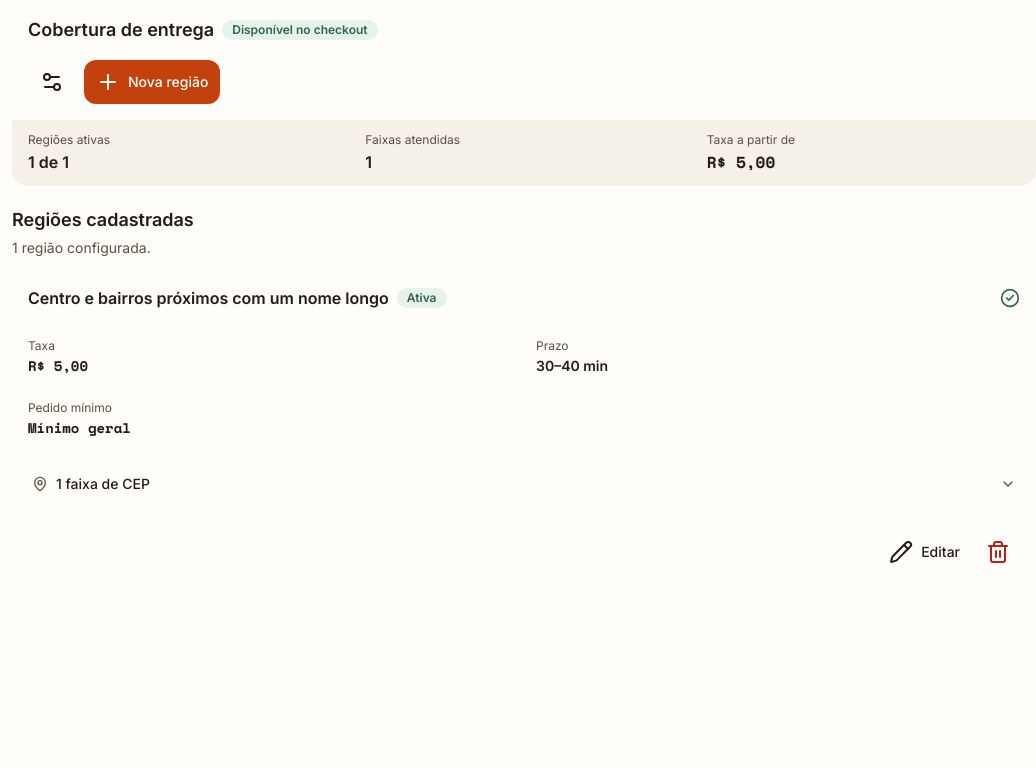
Test case: gestão de regiões de entrega › resume a integração com o checkout e mantém os detalhes progressivos
The image size is (1036, 768).
Expected: the text "Disponível no checkout" is shown, 222,20 -> 378,40
Expected: the text "1 de 1" is shown, 28,152 -> 69,172
Click the heading "1 faixa de CEP" at (103, 484), box 32,475 -> 1016,492
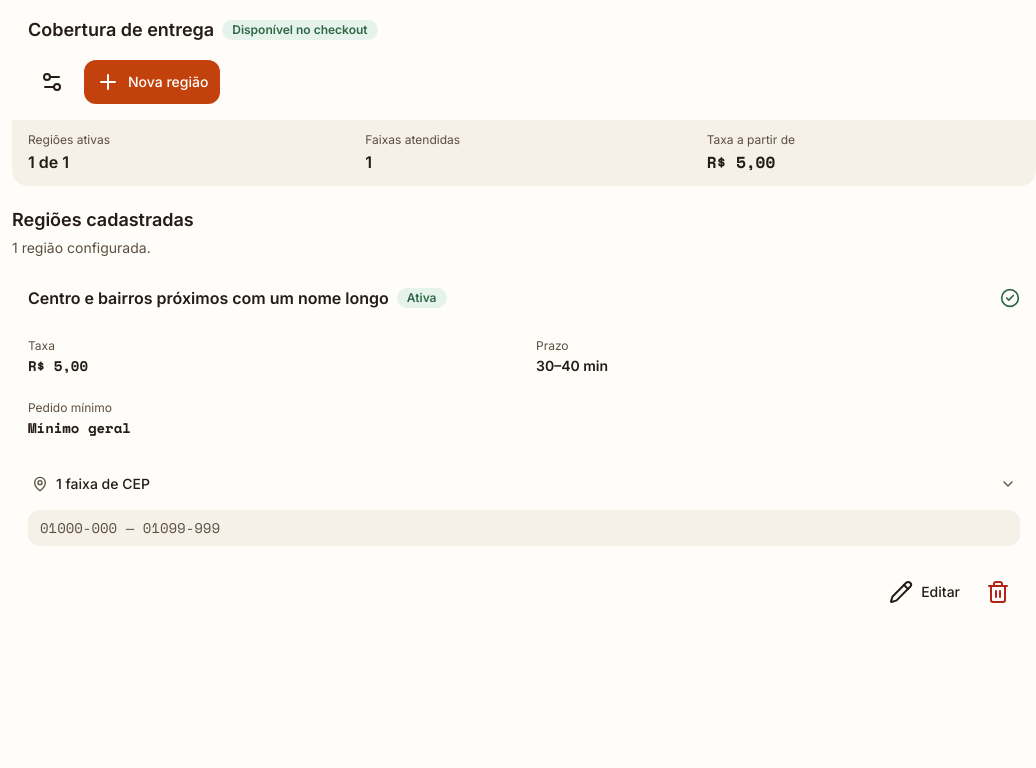
Expected: the button with aria-label "Editar região Centro" is shown, 877,570 -> 972,614
Expected: the list item "01000-000 — 01099-999" is shown, 28,510 -> 1020,546
